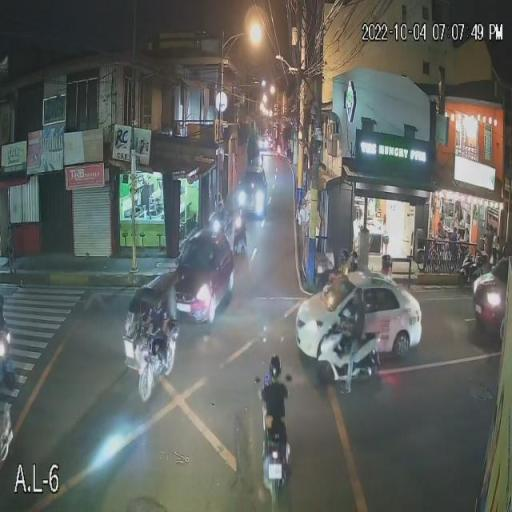helmet: (269, 355, 284, 383), (352, 290, 364, 310)
motorcycle: (316, 328, 379, 378), (260, 406, 286, 496)
rider: (268, 360, 288, 437), (347, 297, 364, 365)
